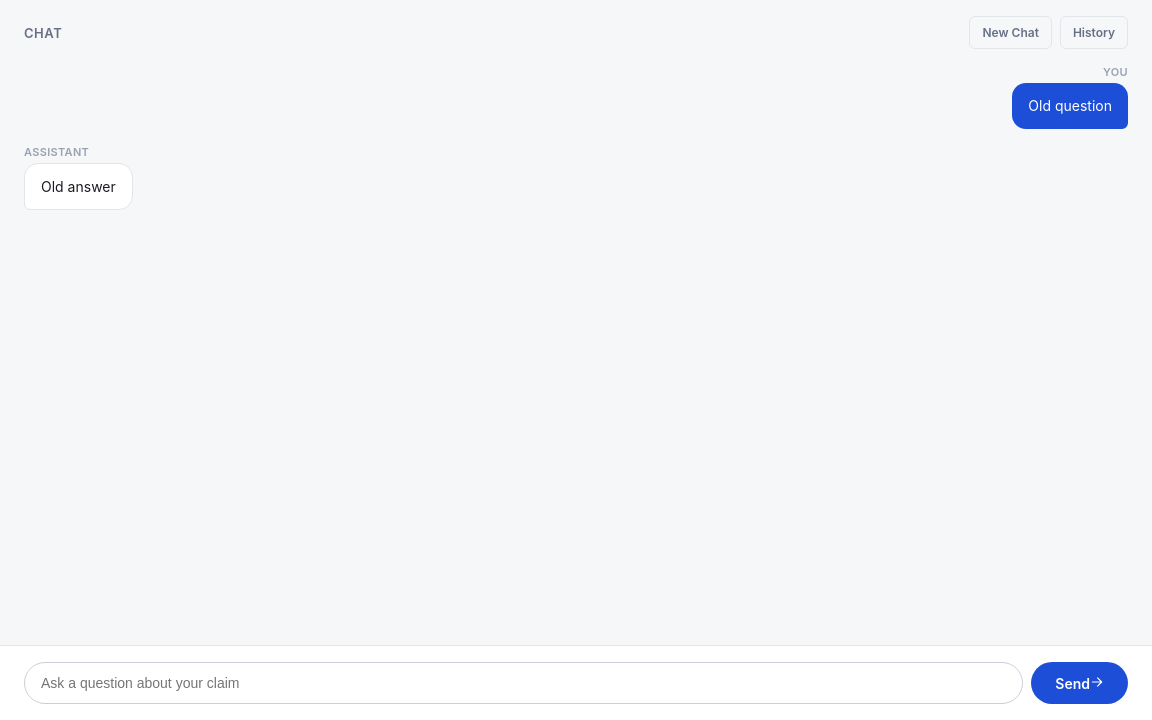
Test: ChatPanel › starts a new conversation, clearing the transcript
Check: the text "Old question" is shown, box [1028,95,1112,117]
Click the button "New Chat" at point(1011, 32), box [969,16,1052,49]
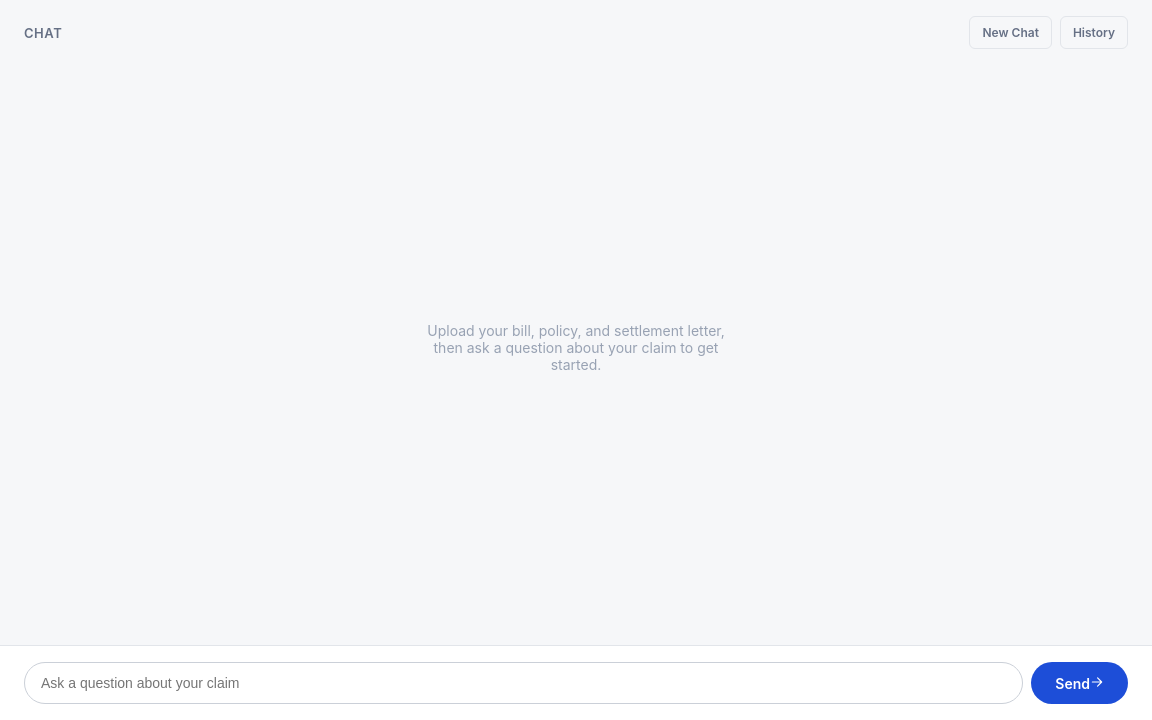
Check: the text "Old question" is gone
Check: the text "Old answer" is gone
Check: the text "Upload your bill" is shown, box [427,322,725,372]
